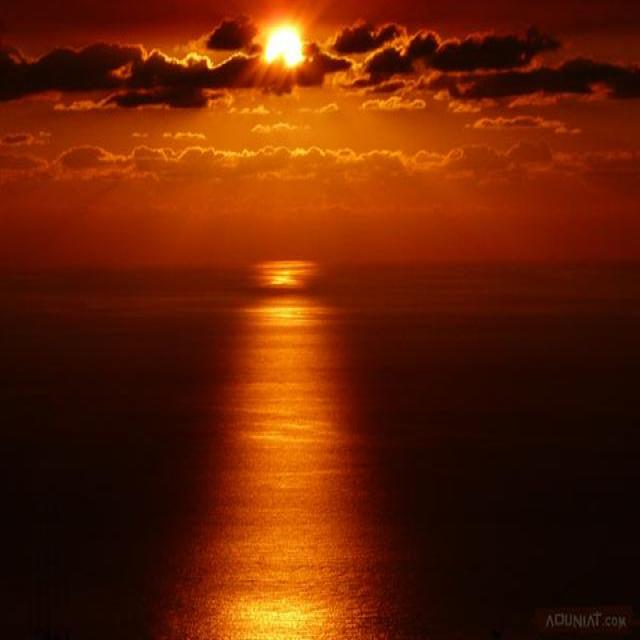no_fire: (147, 246, 512, 640), (170, 4, 507, 138)
